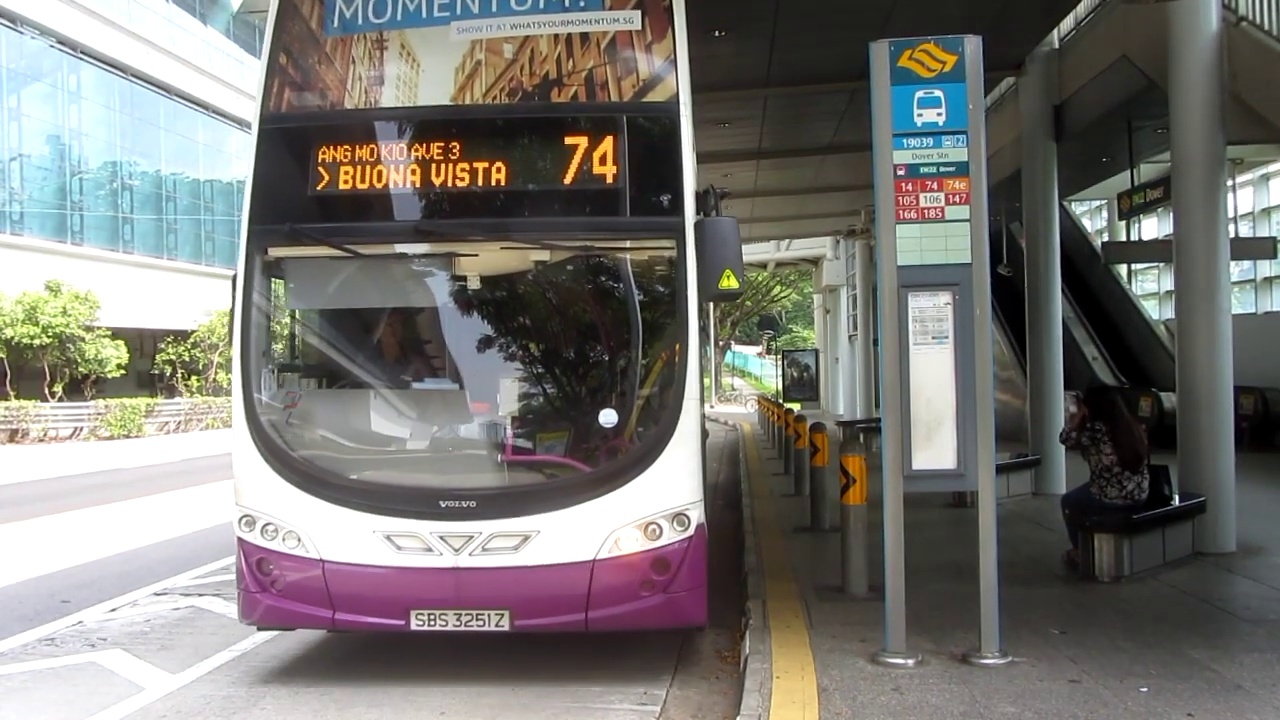bus panel: (305, 130, 629, 199)
